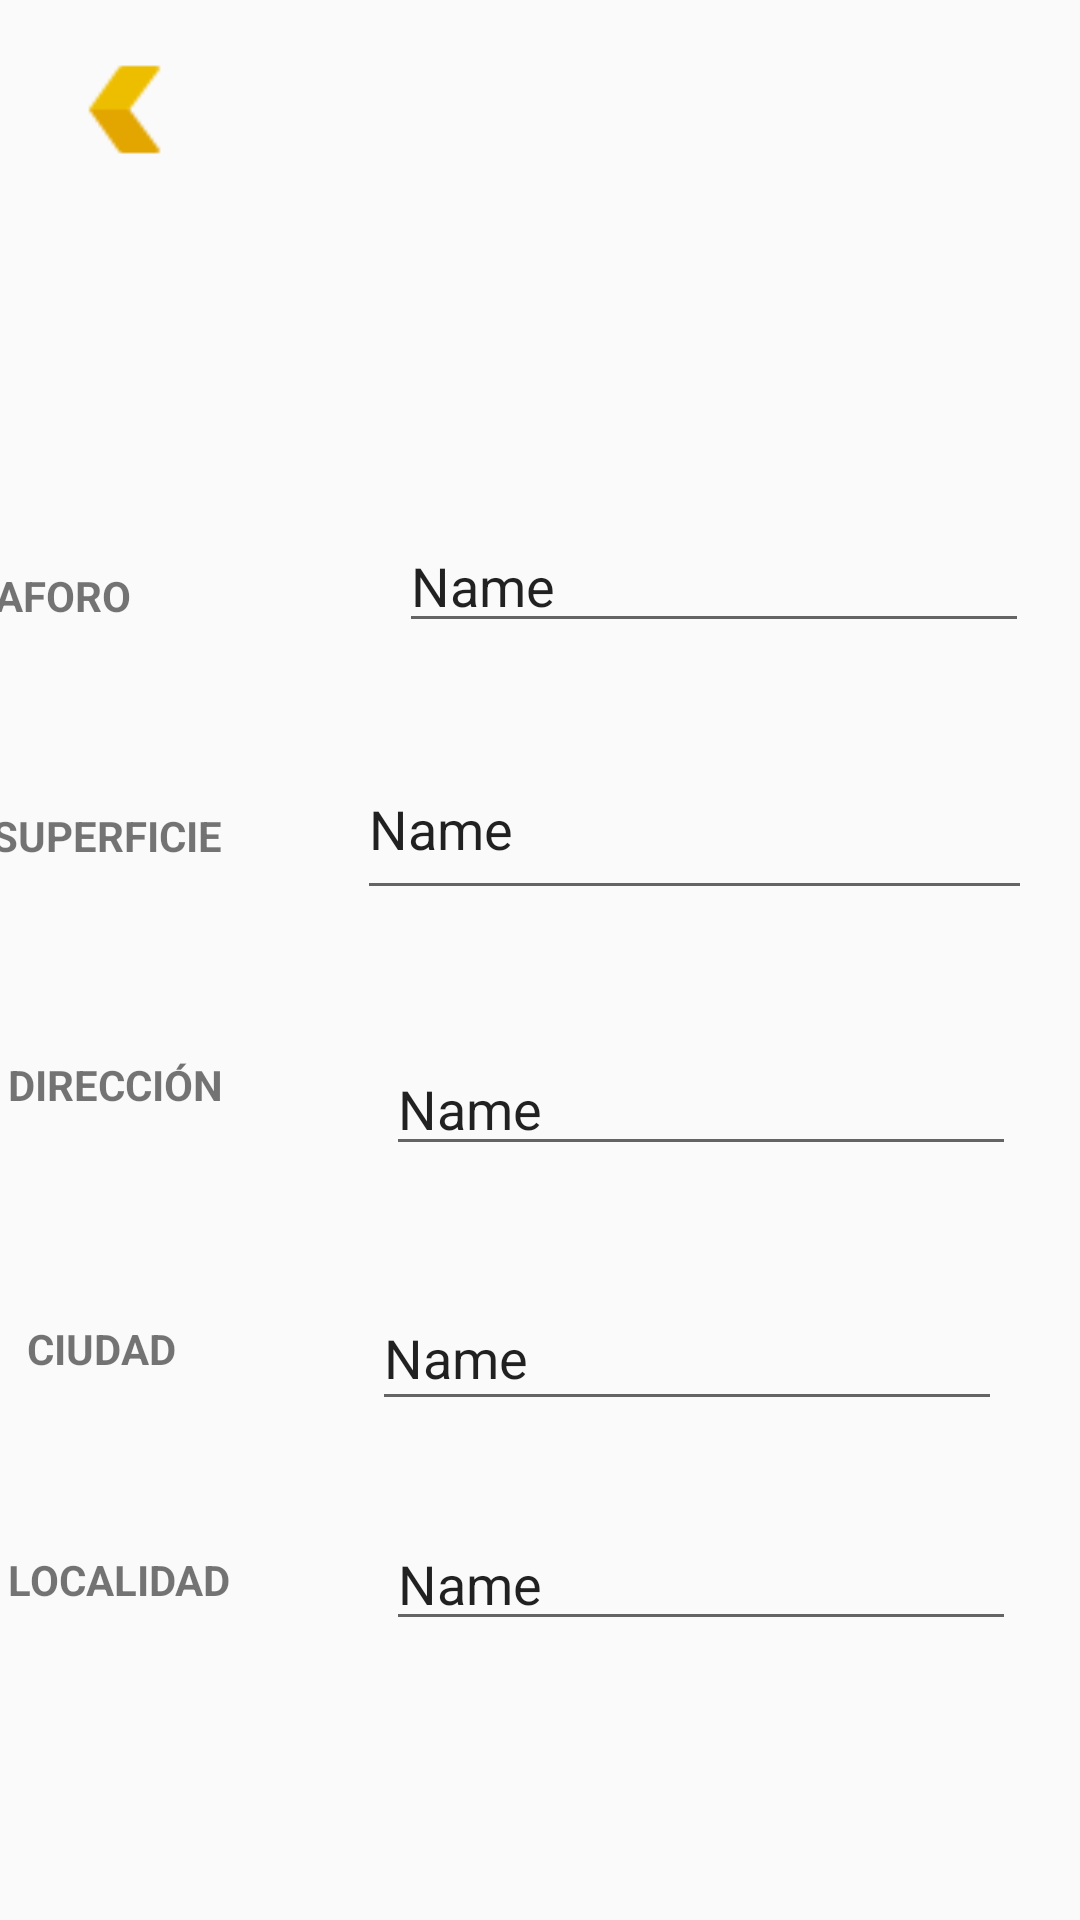

Named icons in this screenshot (1080 x 1920) and their bounding boxes, (x1, y1, x2, y2):
volveroro: (88, 65, 161, 154)
